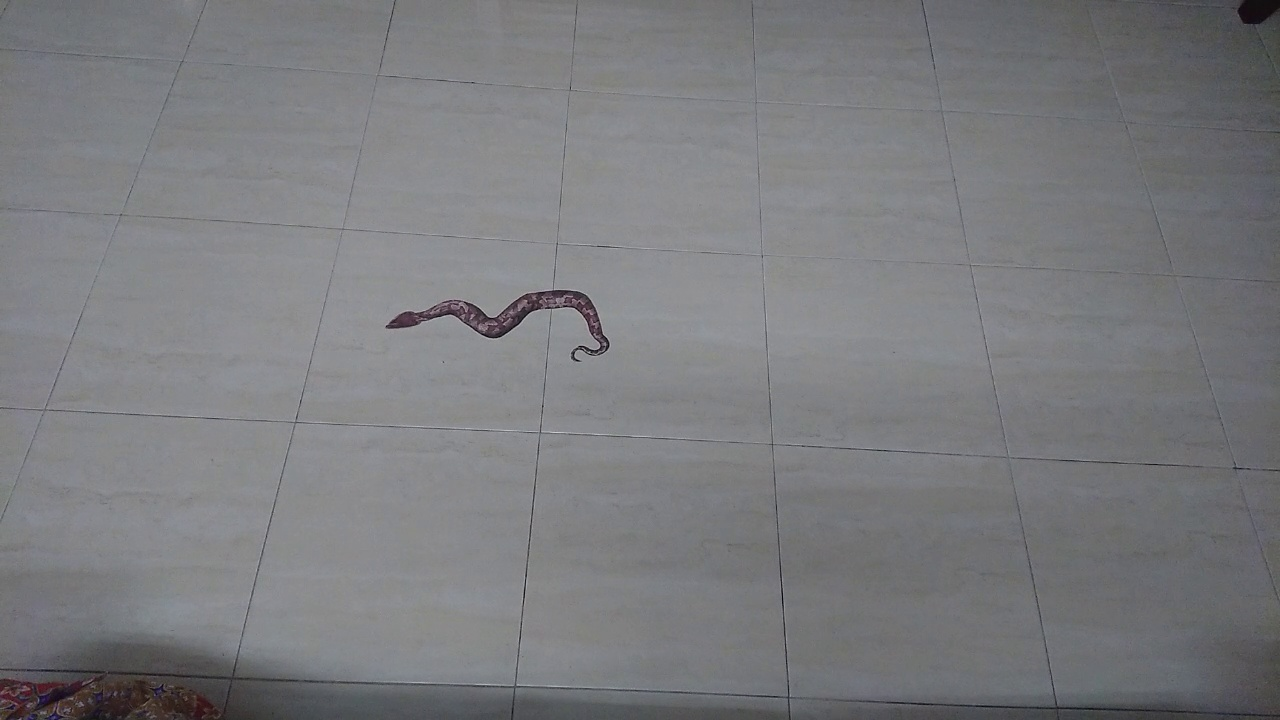snake: (366, 267, 625, 378)
